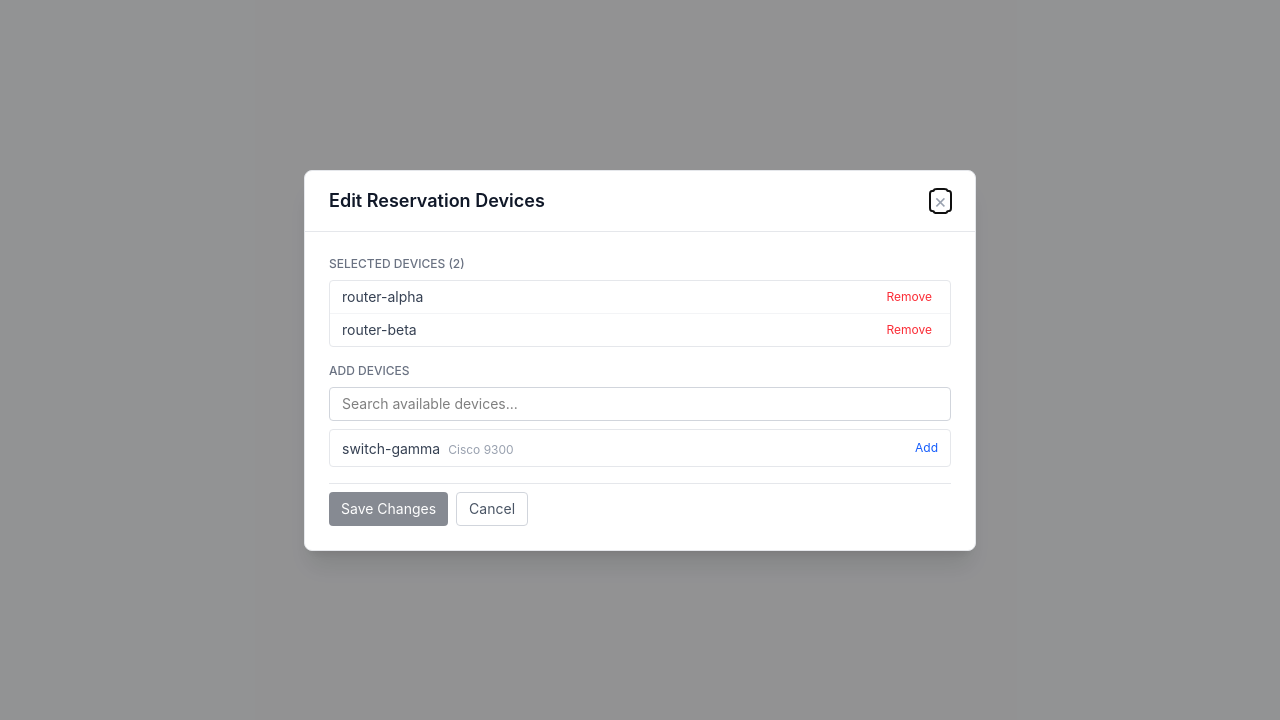
it: EditDevicesModal › adds an available device to the selection on click
Click the text "switch-gamma".
click(391, 448)  # box [342,440,440,456]
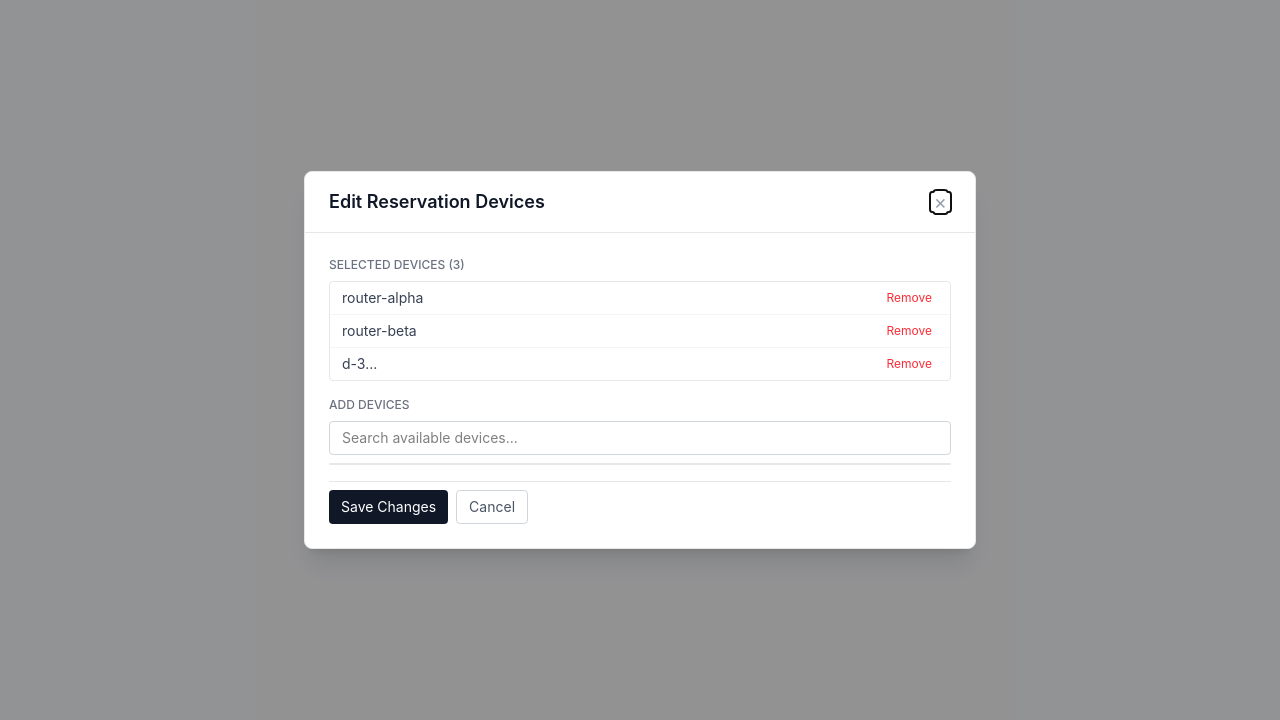
Expected: the heading "Selected Devices (3)" is shown, [329,257,465,272]
Expected: the text "Cisco 9300" is gone
